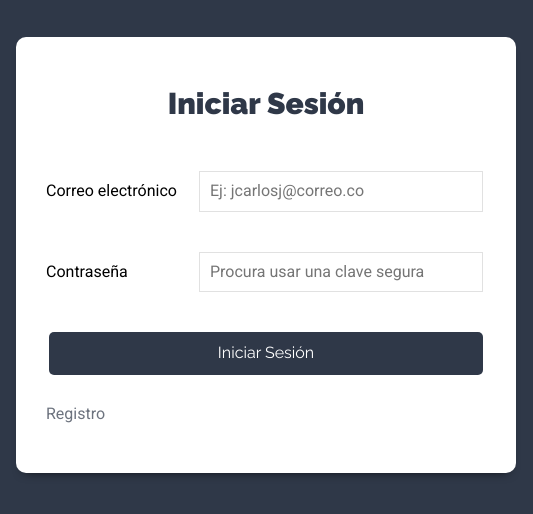
Test: <LogIn /> › Debe mostrar mensaje de error al hacer click con formulario vacio
Click the button with test id "login-button-submit".
click(266, 353)  # box [49,332,483,374]
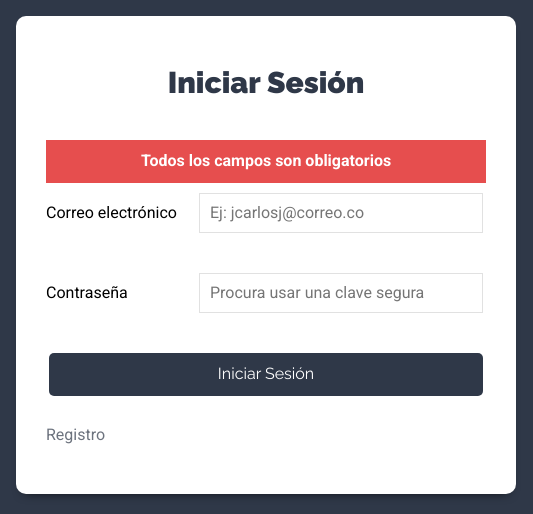
Check: the text "Todos los campos son obligatorios" is shown, box [46,140,486,183]
Check: the text with test id "alert-error" reads "Todos los campos son obligatorios", box [46,140,486,182]
